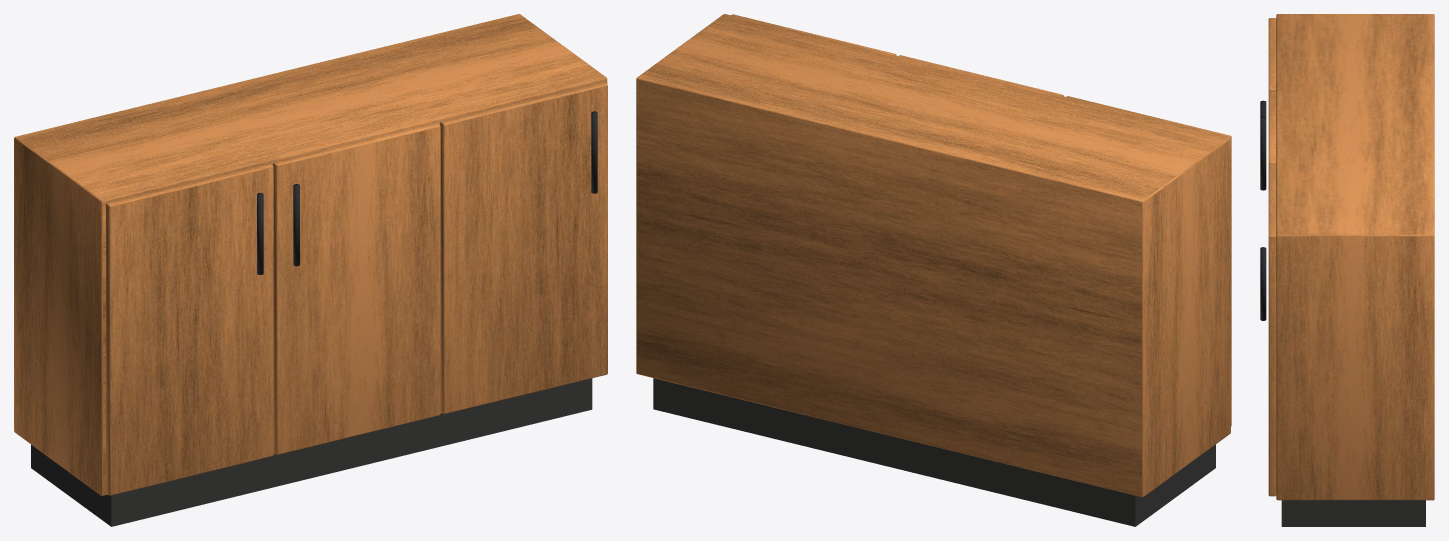
Rendered from storage.storage-cabinet-low.glb.
3 views of the same model, side by side, from view 1: azimuth 30°, elevation 25°; view 2: azimuth 150°, elevation 25°; view 3: azimuth 270°, elevation 25° (orthographic). The views are drawn at different scales.
Visible parts, largest first — view 1: storage.storage-cabinet-low.001; view 2: storage.storage-cabinet-low.001; view 3: storage.storage-cabinet-low.001.
Boxes of the visible parts, <box> form: storage.storage-cabinet-low.001: <box>14,14,607,526</box>; storage.storage-cabinet-low.001: <box>636,14,1231,526</box>; storage.storage-cabinet-low.001: <box>1260,14,1434,526</box>.
Size of the model in its own units: 1.2 by 0.75 by 0.399.
3 materials, 1 textured.
